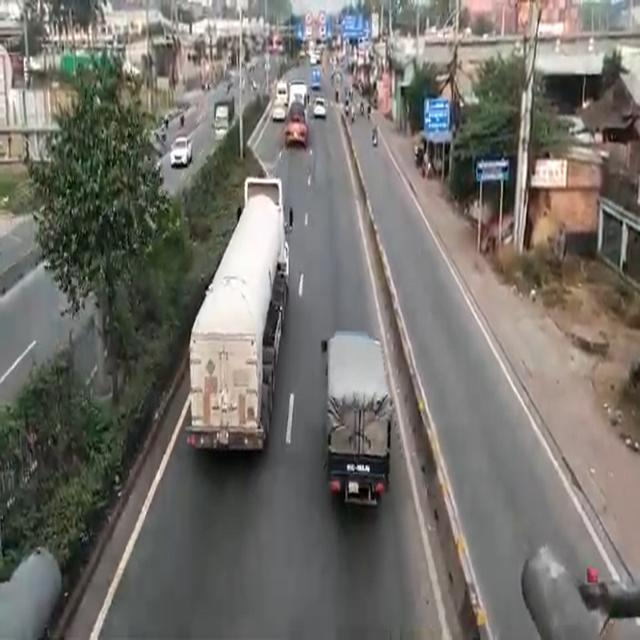car: (172, 131, 189, 166)
truck: (190, 186, 292, 451), (317, 329, 390, 506), (288, 82, 310, 149), (214, 98, 232, 137)
